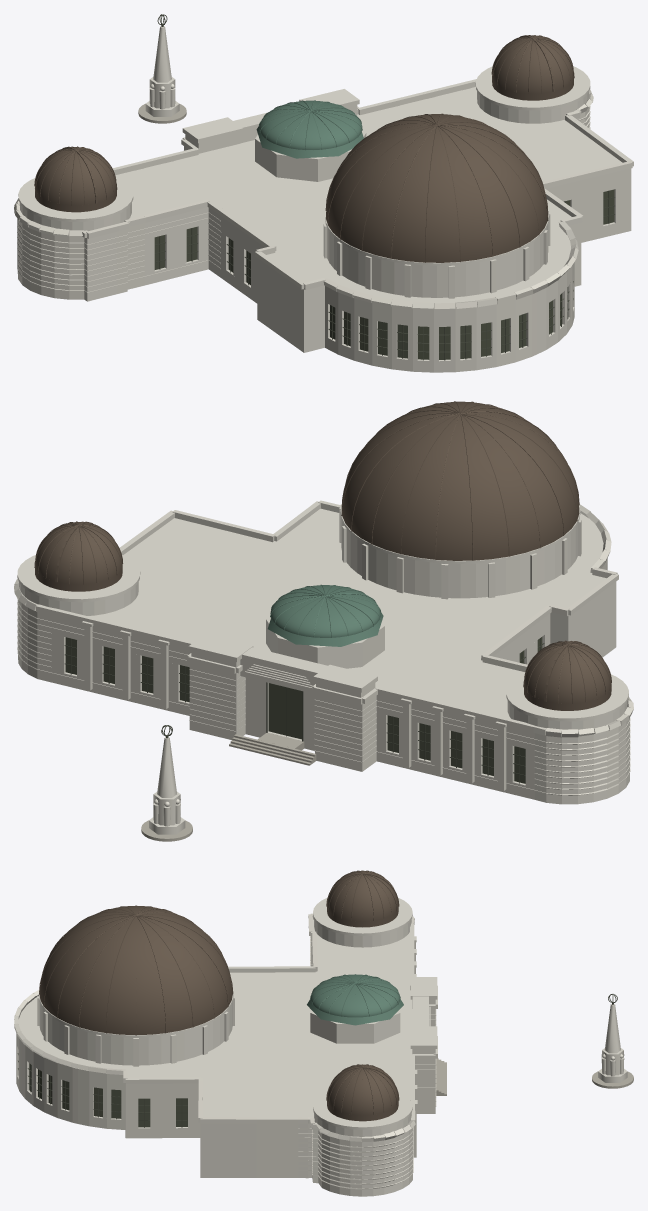
The model's file is griffith-observatory-near.glb.
3 views of the same model, one above another, from view 1: azimuth 30°, elevation 25°; view 2: azimuth 150°, elevation 25°; view 3: azimuth 270°, elevation 25° (orthographic). The views are drawn at different scales.
Visible parts, largest first — view 1: griffith-observatory-0-concrete, griffith-observatory-0-copper, griffith-observatory-0-glow, griffith-observatory-0-patina, griffith-observatory-0-bronze; view 2: griffith-observatory-0-concrete, griffith-observatory-0-copper, griffith-observatory-0-patina, griffith-observatory-0-glow, griffith-observatory-0-terrace, griffith-observatory-0-bronze; view 3: griffith-observatory-0-concrete, griffith-observatory-0-copper, griffith-observatory-0-patina, griffith-observatory-0-glow, griffith-observatory-0-terrace, griffith-observatory-0-bronze.
Boxes of the visible parts, box(x1,y1,x2,y2) form: griffith-observatory-0-concrete: box(14, 26, 633, 372); griffith-observatory-0-copper: box(34, 35, 574, 262); griffith-observatory-0-glow: box(154, 189, 614, 359); griffith-observatory-0-patina: box(256, 100, 363, 158); griffith-observatory-0-bronze: box(154, 14, 615, 360); griffith-observatory-0-concrete: box(14, 500, 633, 834); griffith-observatory-0-copper: box(34, 401, 611, 710); griffith-observatory-0-patina: box(267, 584, 383, 646); griffith-observatory-0-glow: box(65, 637, 542, 783); griffith-observatory-0-terrace: box(141, 733, 316, 841); griffith-observatory-0-bronze: box(64, 638, 544, 783); griffith-observatory-0-concrete: box(14, 897, 627, 1196); griffith-observatory-0-copper: box(39, 870, 399, 1121); griffith-observatory-0-patina: box(307, 974, 403, 1025); griffith-observatory-0-glow: box(29, 1063, 187, 1127); griffith-observatory-0-terrace: box(436, 1058, 633, 1095); griffith-observatory-0-bronze: box(17, 994, 617, 1127).
Bounding box in the file's own units: 72.29 × 23.27 × 79.45.
